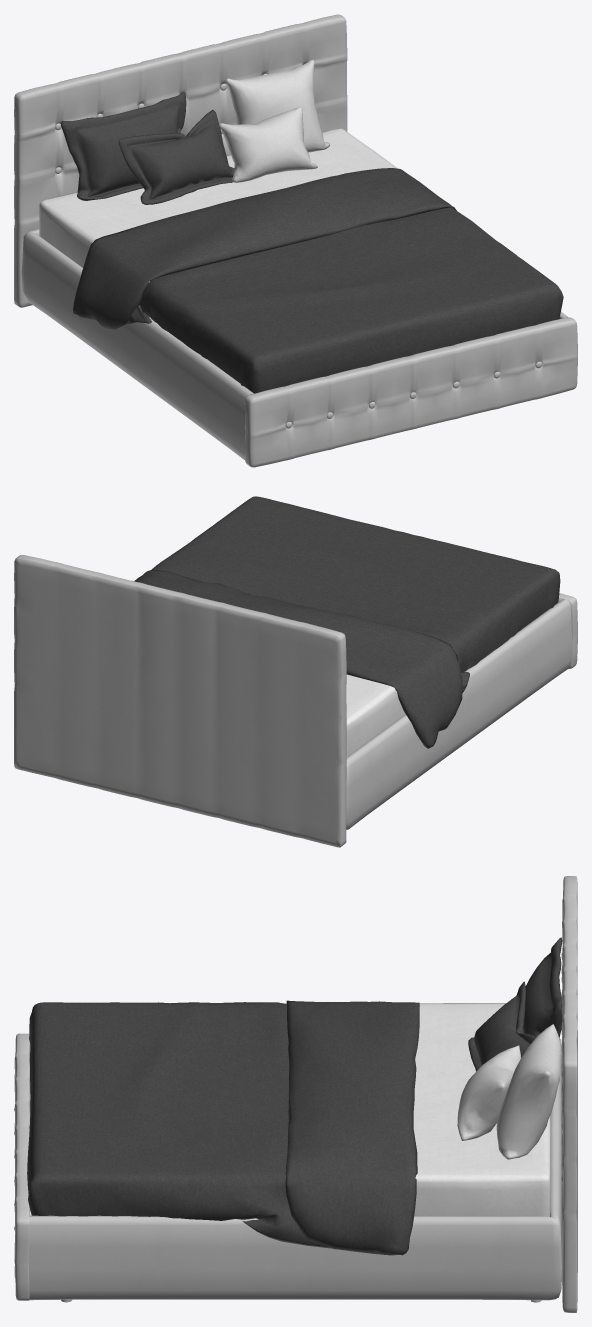
The model's file is classic_blackwhite_bed.glb.
3 views of the same model, one above another, from view 1: azimuth 30°, elevation 25°; view 2: azimuth 150°, elevation 25°; view 3: azimuth 270°, elevation 25° (orthographic). The views are drawn at different scales.
Visible parts, largest first — view 1: Classic_Bed; view 2: Classic_Bed; view 3: Classic_Bed.
Part boxes in pixels (x1,y1,x2,y2): Classic_Bed: [14, 14, 577, 467]; Classic_Bed: [14, 496, 577, 847]; Classic_Bed: [14, 876, 577, 1312].
Size of the model in its own units: 1879 by 1067 by 2168.
Materials: 1 (1 with a texture image).
